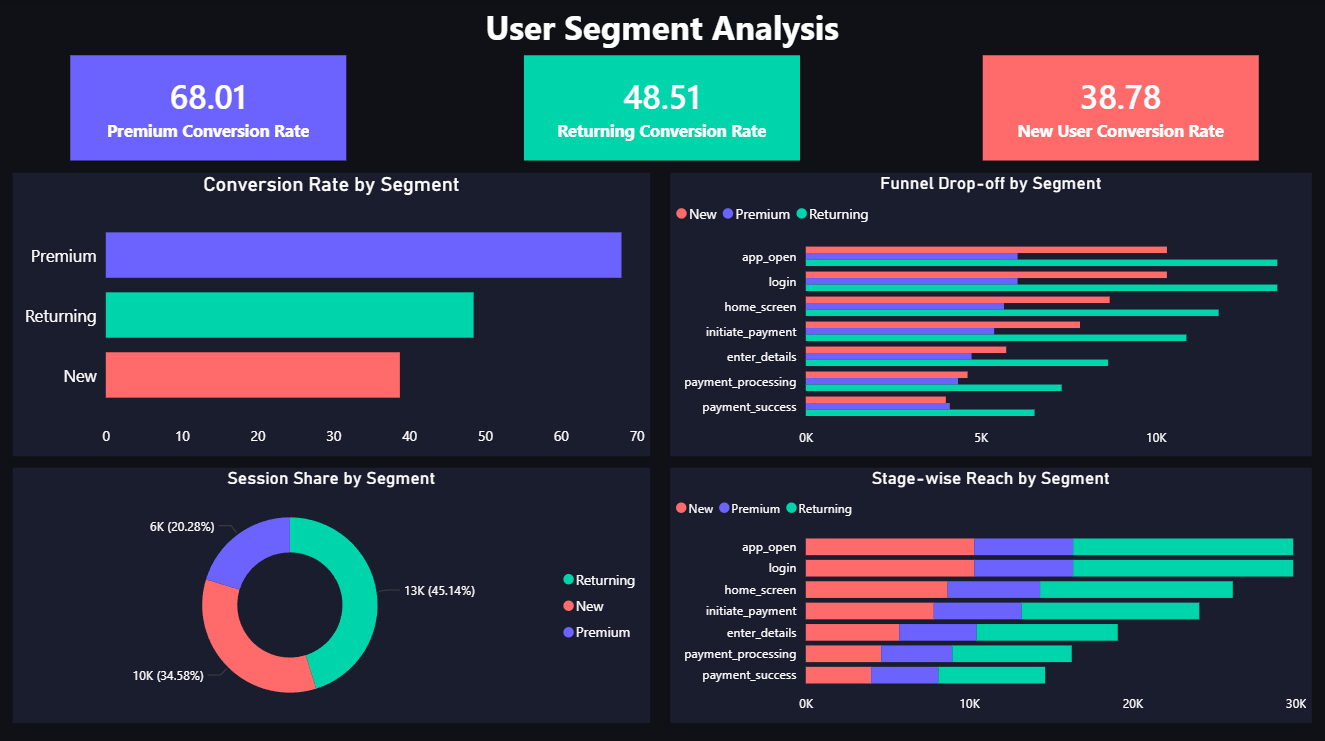

Layout of this report page (visuals, bound fields, positions):
{"tool":"powerbi","page":{"name":" User Segment Analysis","canvas":[1280,720],"ordinal":1},"visuals":[{"type":"cardVisual","fields":{"Data":["fintech_funnel_events.Premium Conversion Rate"]},"box":[68.8,54.3,266.6,101.3],"z":0},{"type":"cardVisual","fields":{"Data":["fintech_funnel_events.New User Conversion Rate"]},"box":[949.5,54.3,266.6,101.3],"z":1000},{"type":"cardVisual","fields":{"Data":["fintech_funnel_events.Returning Conversion Rate"]},"box":[506.7,54.3,266.6,101.3],"z":2000},{"type":"clusteredBarChart","title":"Conversion Rate by Segment","fields":{"Category":["fintech_funnel_events.segment"],"Y":["fintech_funnel_events.Overall Conversion Rate"]},"box":[13.3,167.7,615.3,273.9],"z":3000},{"type":"clusteredBarChart","title":"Funnel Drop-off by Segment","fields":{"Category":["fintech_funnel_events.event"],"Y":["fintech_funnel_events.Total Sessions"],"Series":["fintech_funnel_events.segment"]},"box":[647.9,167.7,618.9,273.9],"z":4000},{"type":"donutChart","title":"Session Share by Segment","fields":{"Category":["fintech_funnel_events.segment"],"Y":["fintech_funnel_events.Total Sessions"]},"box":[13.3,452.4,615.3,246.1],"z":5000},{"type":"barChart","title":"Stage-wise Reach by Segment","fields":{"Category":["fintech_funnel_events.event"],"Y":["fintech_funnel_events.Total Sessions"],"Series":["fintech_funnel_events.segment"]},"box":[647.9,452.4,618.9,246.1],"z":6000},{"type":"textbox","box":[0,0,1280,54.3],"z":7000}]}

Visuals, with their boxes in screenshot pixels (x1, y1, x2, y2), scaled from the page's 1280x720 canvas onto the 1325x741 screenshot:
cardVisual - fintech_funnel_events.Premium Conversion Rate: detection(71, 56, 347, 160)
cardVisual - fintech_funnel_events.New User Conversion Rate: detection(983, 56, 1259, 160)
cardVisual - fintech_funnel_events.Returning Conversion Rate: detection(525, 56, 800, 160)
"Conversion Rate by Segment" clusteredBarChart: detection(14, 173, 651, 454)
"Funnel Drop-off by Segment" clusteredBarChart: detection(671, 173, 1311, 454)
"Session Share by Segment" donutChart: detection(14, 466, 651, 719)
"Stage-wise Reach by Segment" barChart: detection(671, 466, 1311, 719)
textbox: detection(0, 0, 1324, 56)
